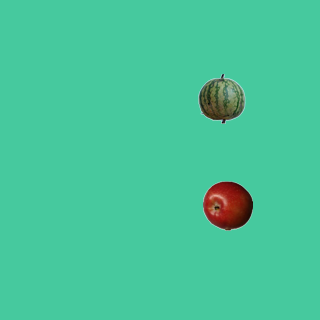Apple Braeburn: (202, 180, 252, 230)
Watermelon: (196, 73, 246, 123)
